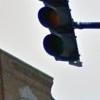Traffic light: (39, 0, 76, 70)
